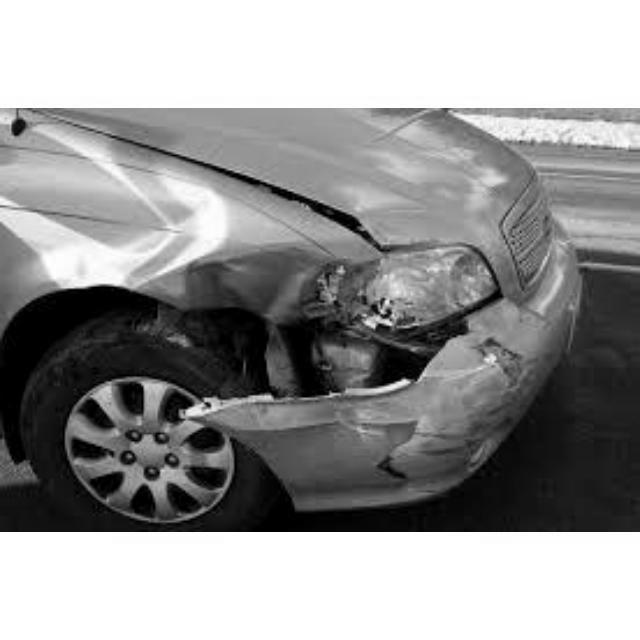Headlight-damage: (306, 250, 496, 361)
fender-dent: (1, 139, 330, 324)
front-bumper-dent: (325, 319, 538, 479)
